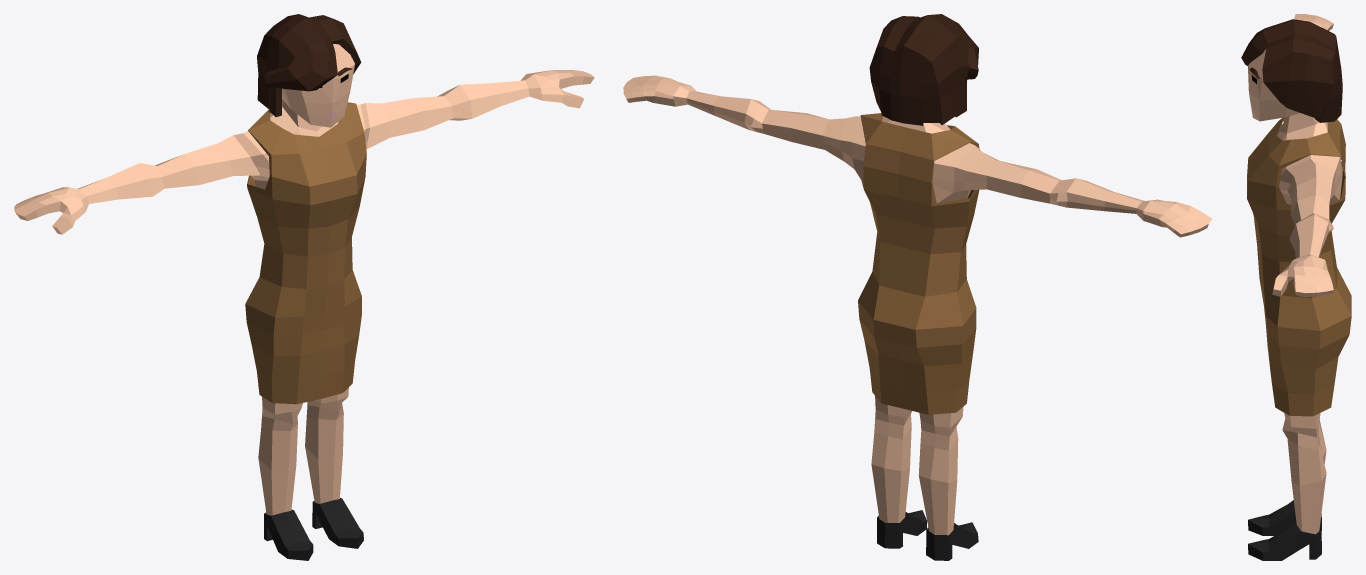
The model's file is NPC_W_Marroncete_Escenario2_PeloCorto.fbx.
3 views of the same model, side by side, from view 1: azimuth 30°, elevation 25°; view 2: azimuth 150°, elevation 25°; view 3: azimuth 270°, elevation 25° (orthographic).
Parts seen in each view (by area): view 1: Vestido; view 2: Vestido; view 3: Vestido.
Part boxes in pixels (bbox=[...]): Vestido: bbox=[14, 14, 594, 560]; Vestido: bbox=[623, 14, 1212, 560]; Vestido: bbox=[1241, 14, 1351, 560].
Bounding box in the file's own units: 215 × 187 × 35.99.
